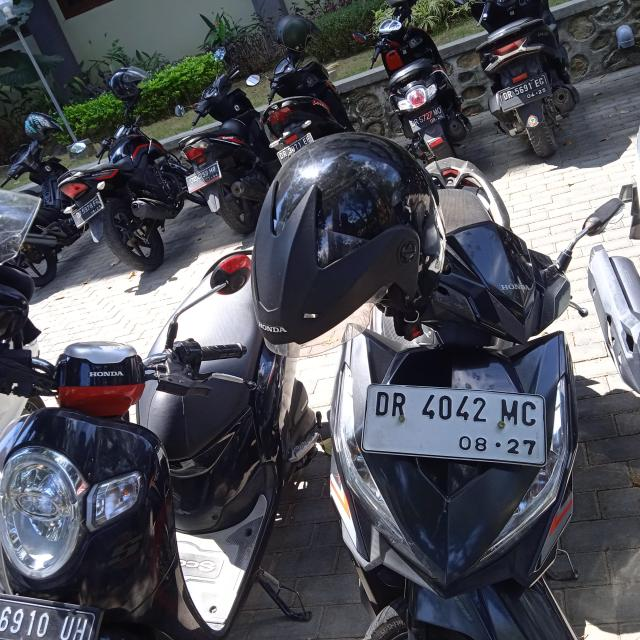plate: (361, 384, 548, 466), (498, 71, 552, 113), (276, 131, 315, 168), (71, 192, 105, 230), (185, 160, 222, 194), (409, 105, 445, 134)
